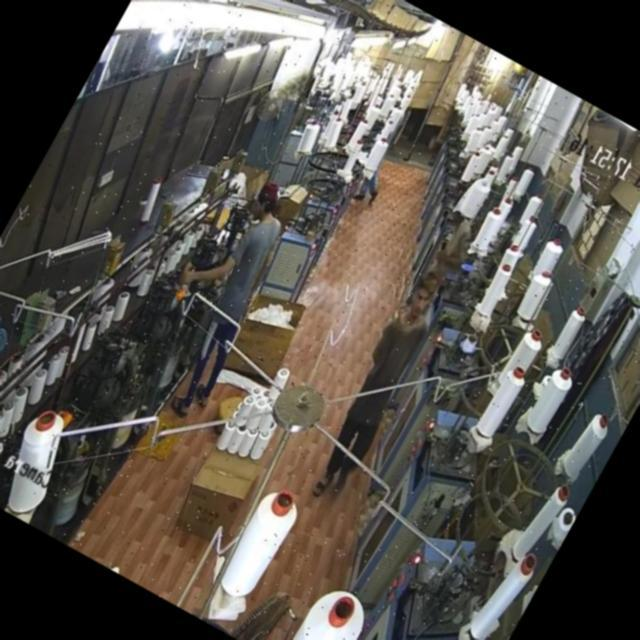person: (129, 167, 314, 420), (310, 269, 455, 495)
